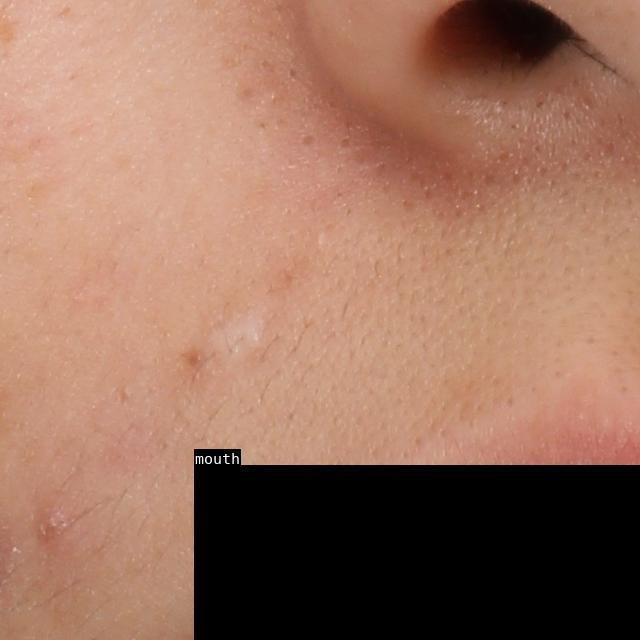papule: (25, 501, 70, 547)
